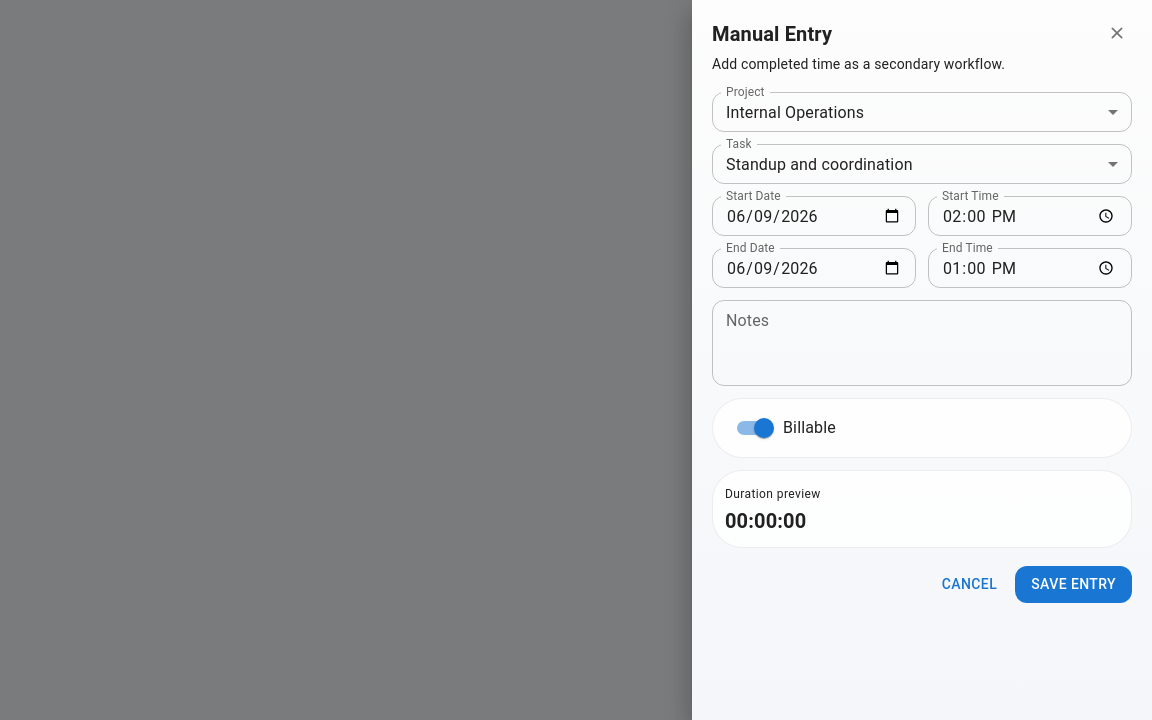
Test: TimerEntryDrawer › submit validation › shows end time error when end is before start
Step 1. Click the button "Save Entry" → x=1074, y=584, box [1015,566,1132,602]
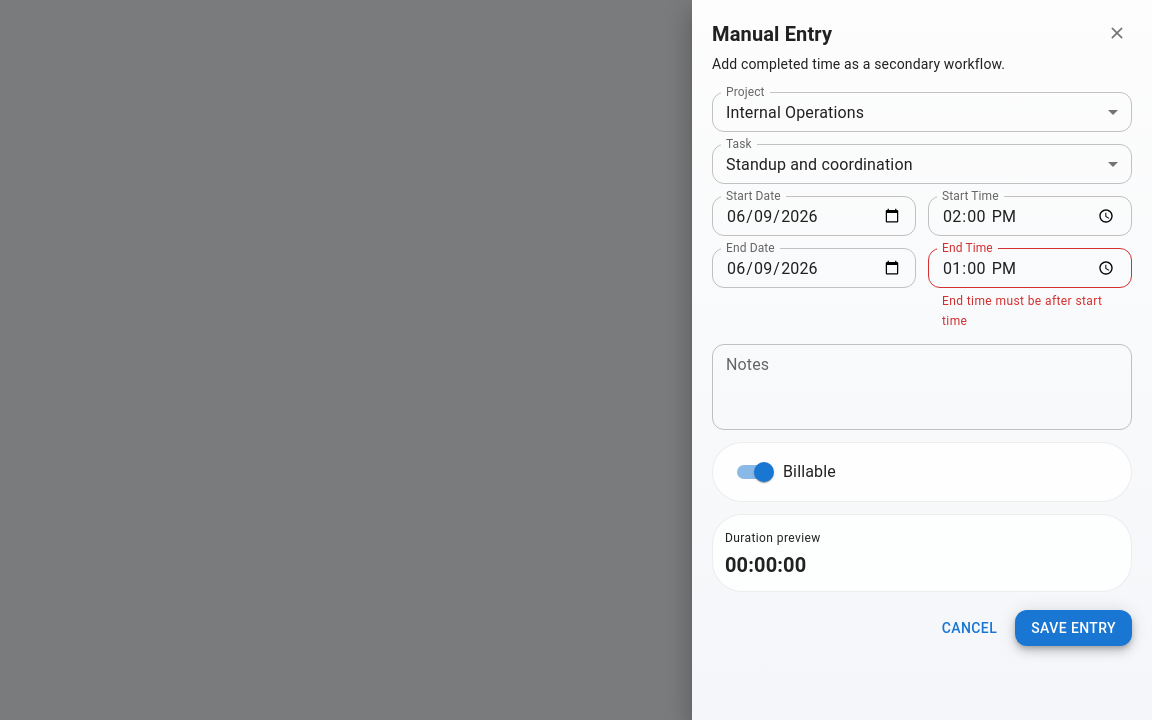
expect the text "End time must be after start time" is shown: met, box [942,292,1118,332]
